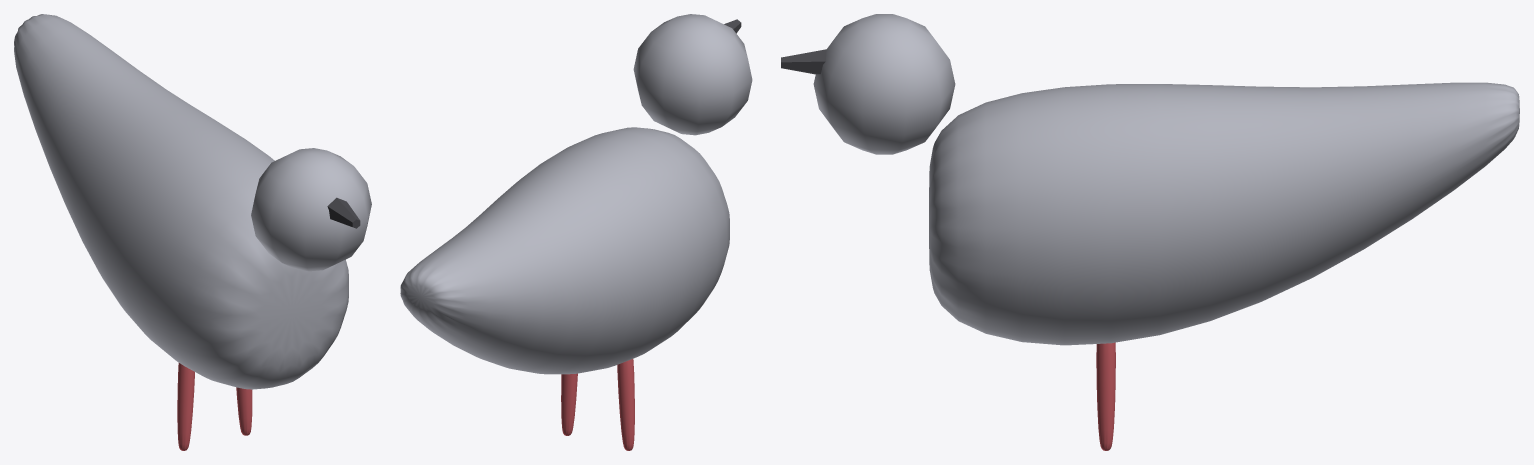
Rendered from pigeon.glb.
3 views of the same model, side by side, from view 1: azimuth 30°, elevation 25°; view 2: azimuth 150°, elevation 25°; view 3: azimuth 270°, elevation 25° (orthographic). The views are drawn at different scales.
Visible parts, largest first — view 1: pigeon; view 2: pigeon; view 3: pigeon.
Boxes of the visible parts, x1,y1,x2,y2 form: pigeon: (14, 14, 371, 450); pigeon: (400, 14, 752, 450); pigeon: (781, 14, 1519, 450).
Size of what is drawn, in the model's own units: 0.0796 by 0.154 by 0.25.
